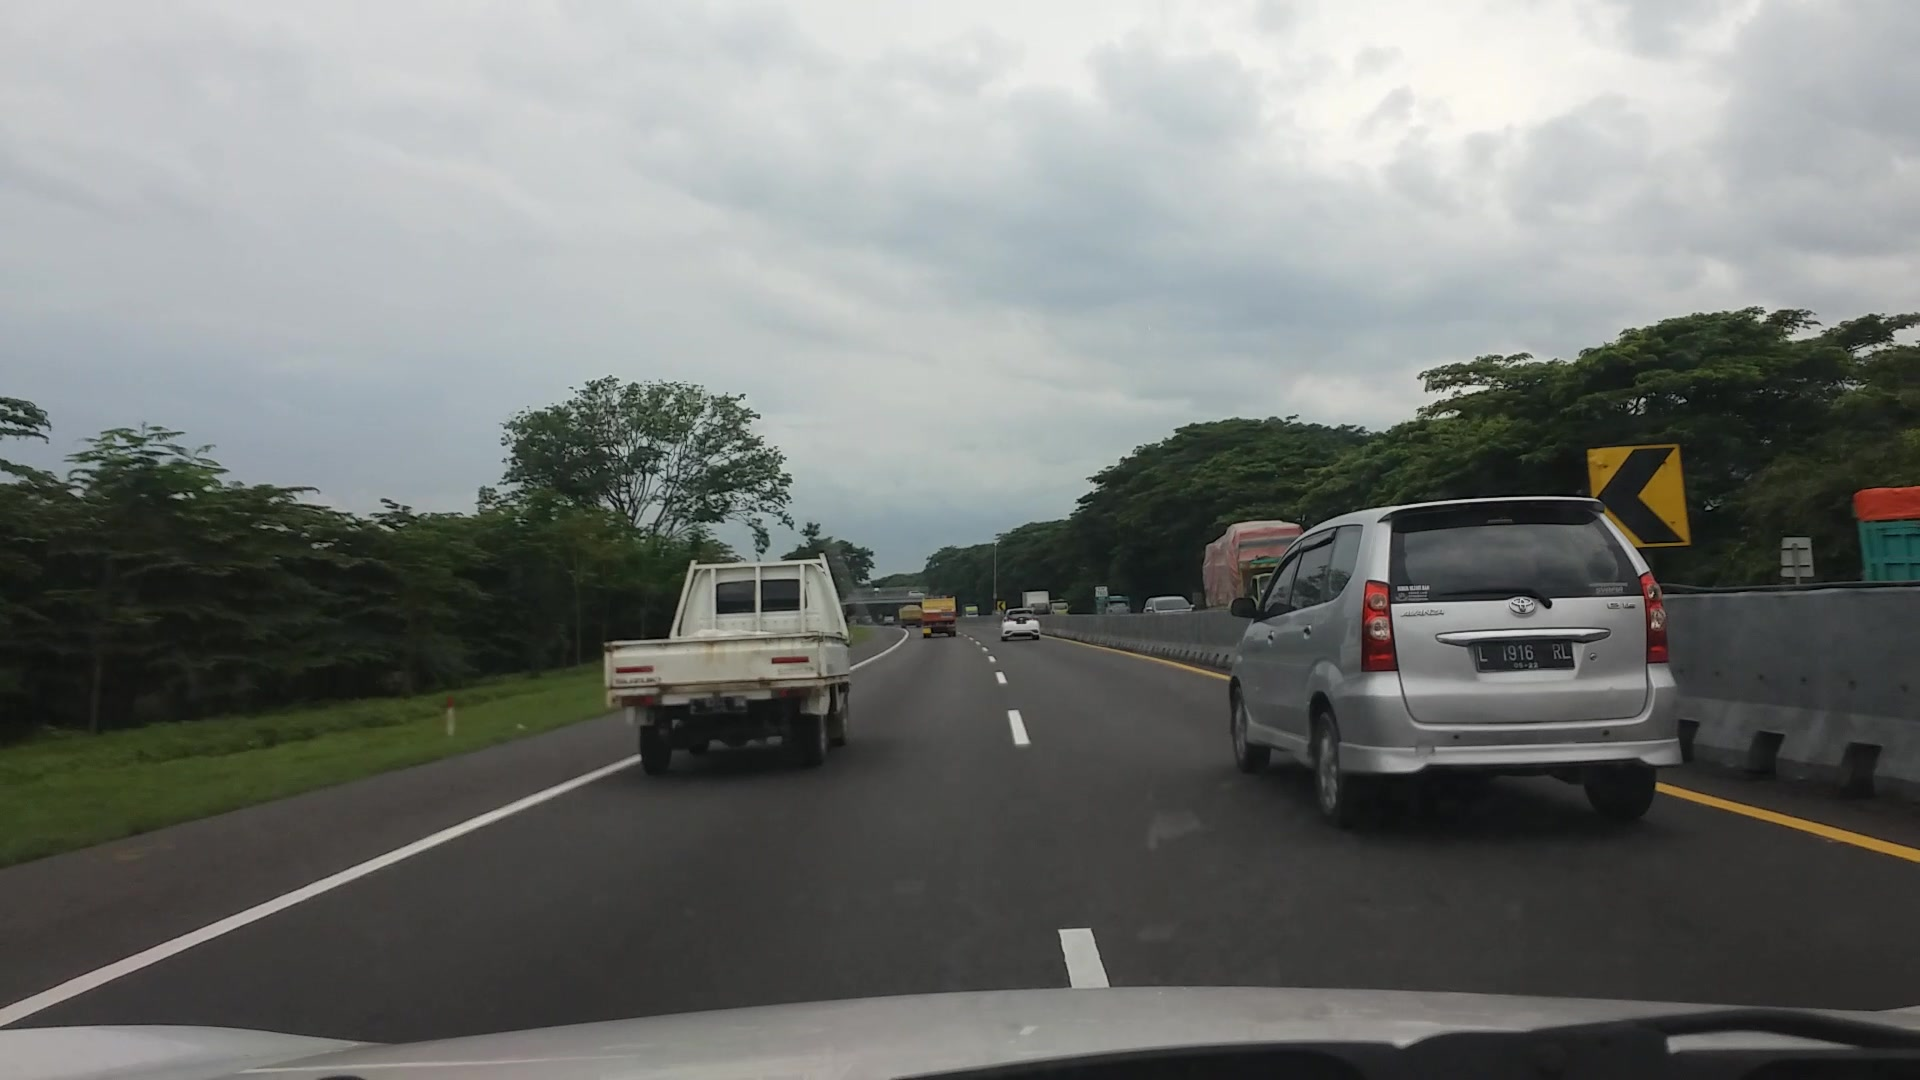plate_positive: (1476, 641, 1575, 669)
